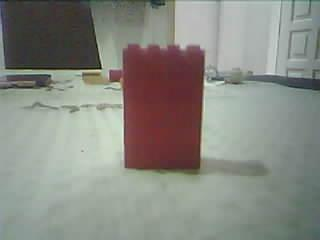lego: (118, 41, 207, 172)
